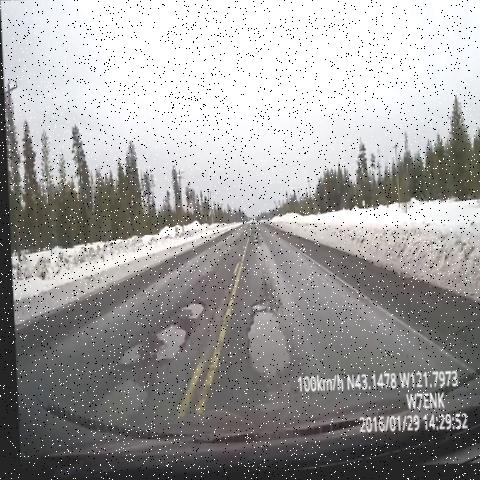pothole: (228, 284, 294, 397), (80, 379, 153, 433), (146, 318, 186, 369), (174, 275, 208, 327), (111, 334, 149, 373), (246, 218, 264, 258), (222, 237, 238, 256)
